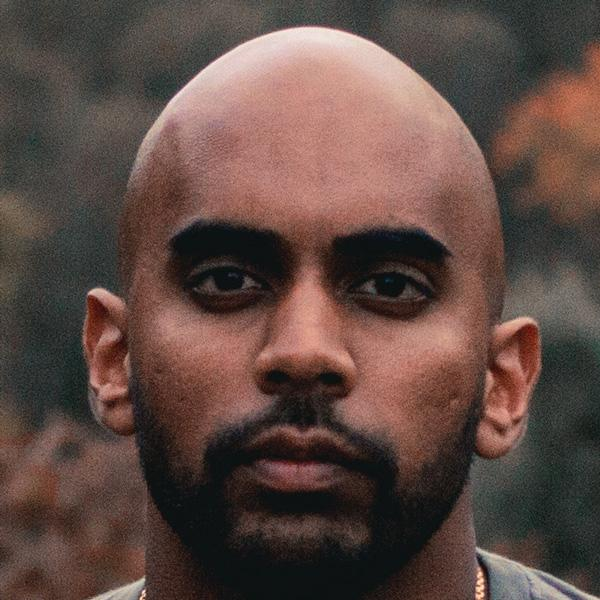Eyes: (337, 253, 439, 324), (174, 254, 274, 313)
